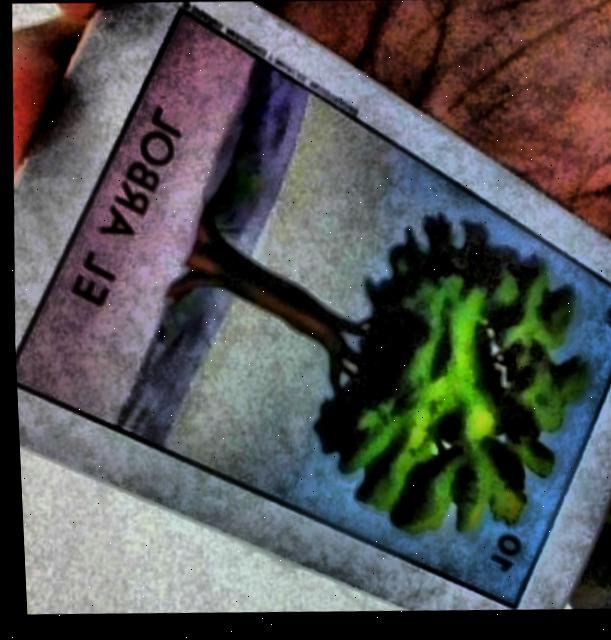El Arbol: (12, 15, 611, 610)
